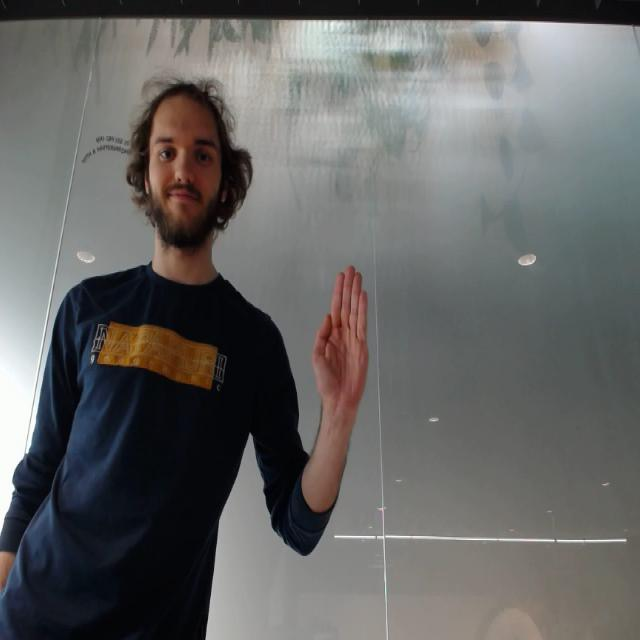backward: (313, 266, 373, 409)
